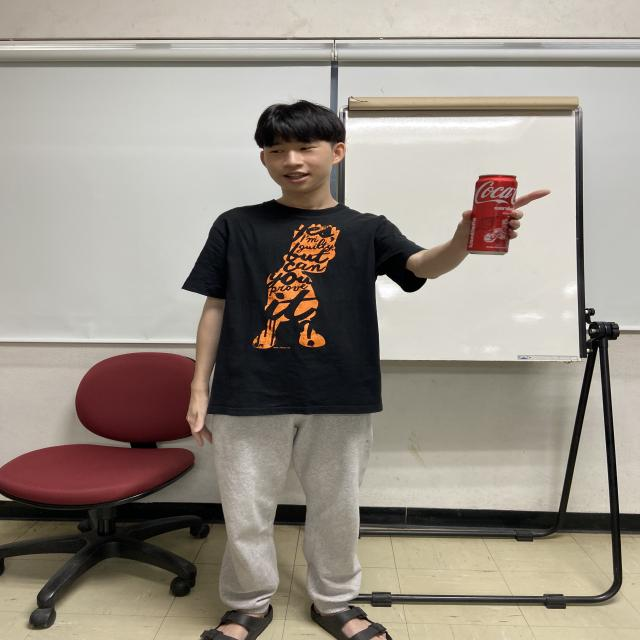can: (468, 173, 518, 255)
